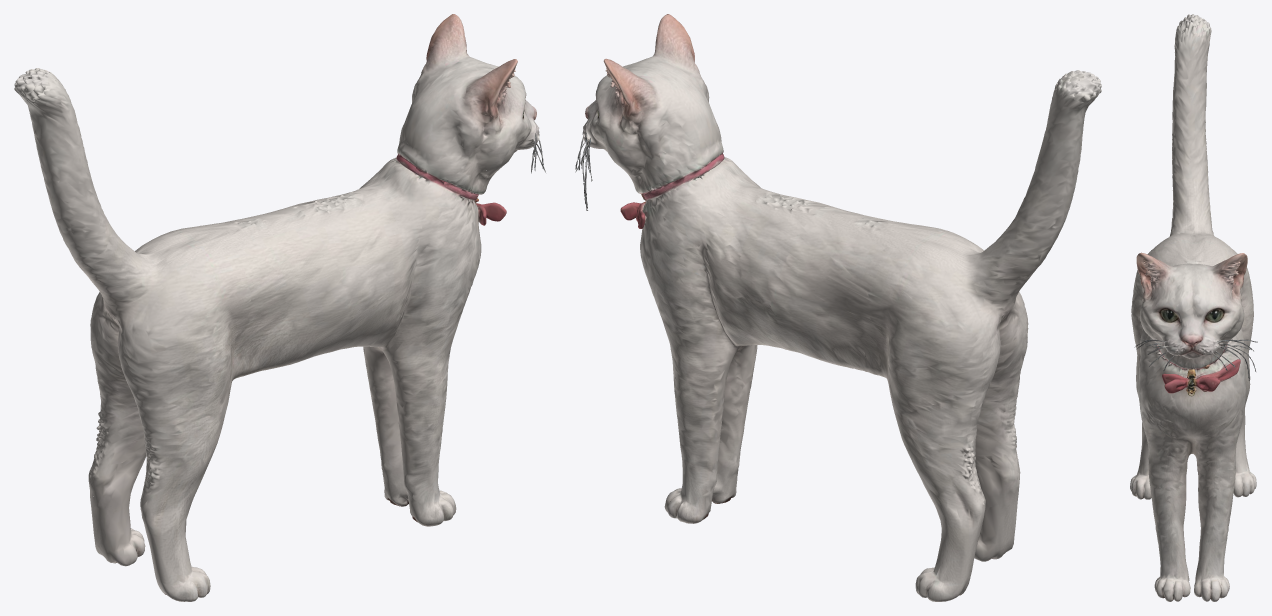
The model's file is ANAGOCAT.glb.
3 views of the same model, side by side, from view 1: azimuth 30°, elevation 25°; view 2: azimuth 150°, elevation 25°; view 3: azimuth 270°, elevation 25° (orthographic). The views are drawn at different scales.
Parts seen in each view (by area): view 1: tripo_node_eb741693-3db5-4906-95d4-ef9d421c5221; view 2: tripo_node_eb741693-3db5-4906-95d4-ef9d421c5221; view 3: tripo_node_eb741693-3db5-4906-95d4-ef9d421c5221.
Part boxes in pixels (left/top/right/bottom): tripo_node_eb741693-3db5-4906-95d4-ef9d421c5221: left=14, top=14, right=545, bottom=601; tripo_node_eb741693-3db5-4906-95d4-ef9d421c5221: left=575, top=14, right=1101, bottom=601; tripo_node_eb741693-3db5-4906-95d4-ef9d421c5221: left=1130, top=14, right=1257, bottom=601.
Bounding box in the file's own units: 1.01 × 0.9997 × 0.2692.
1 material, 1 textured.
